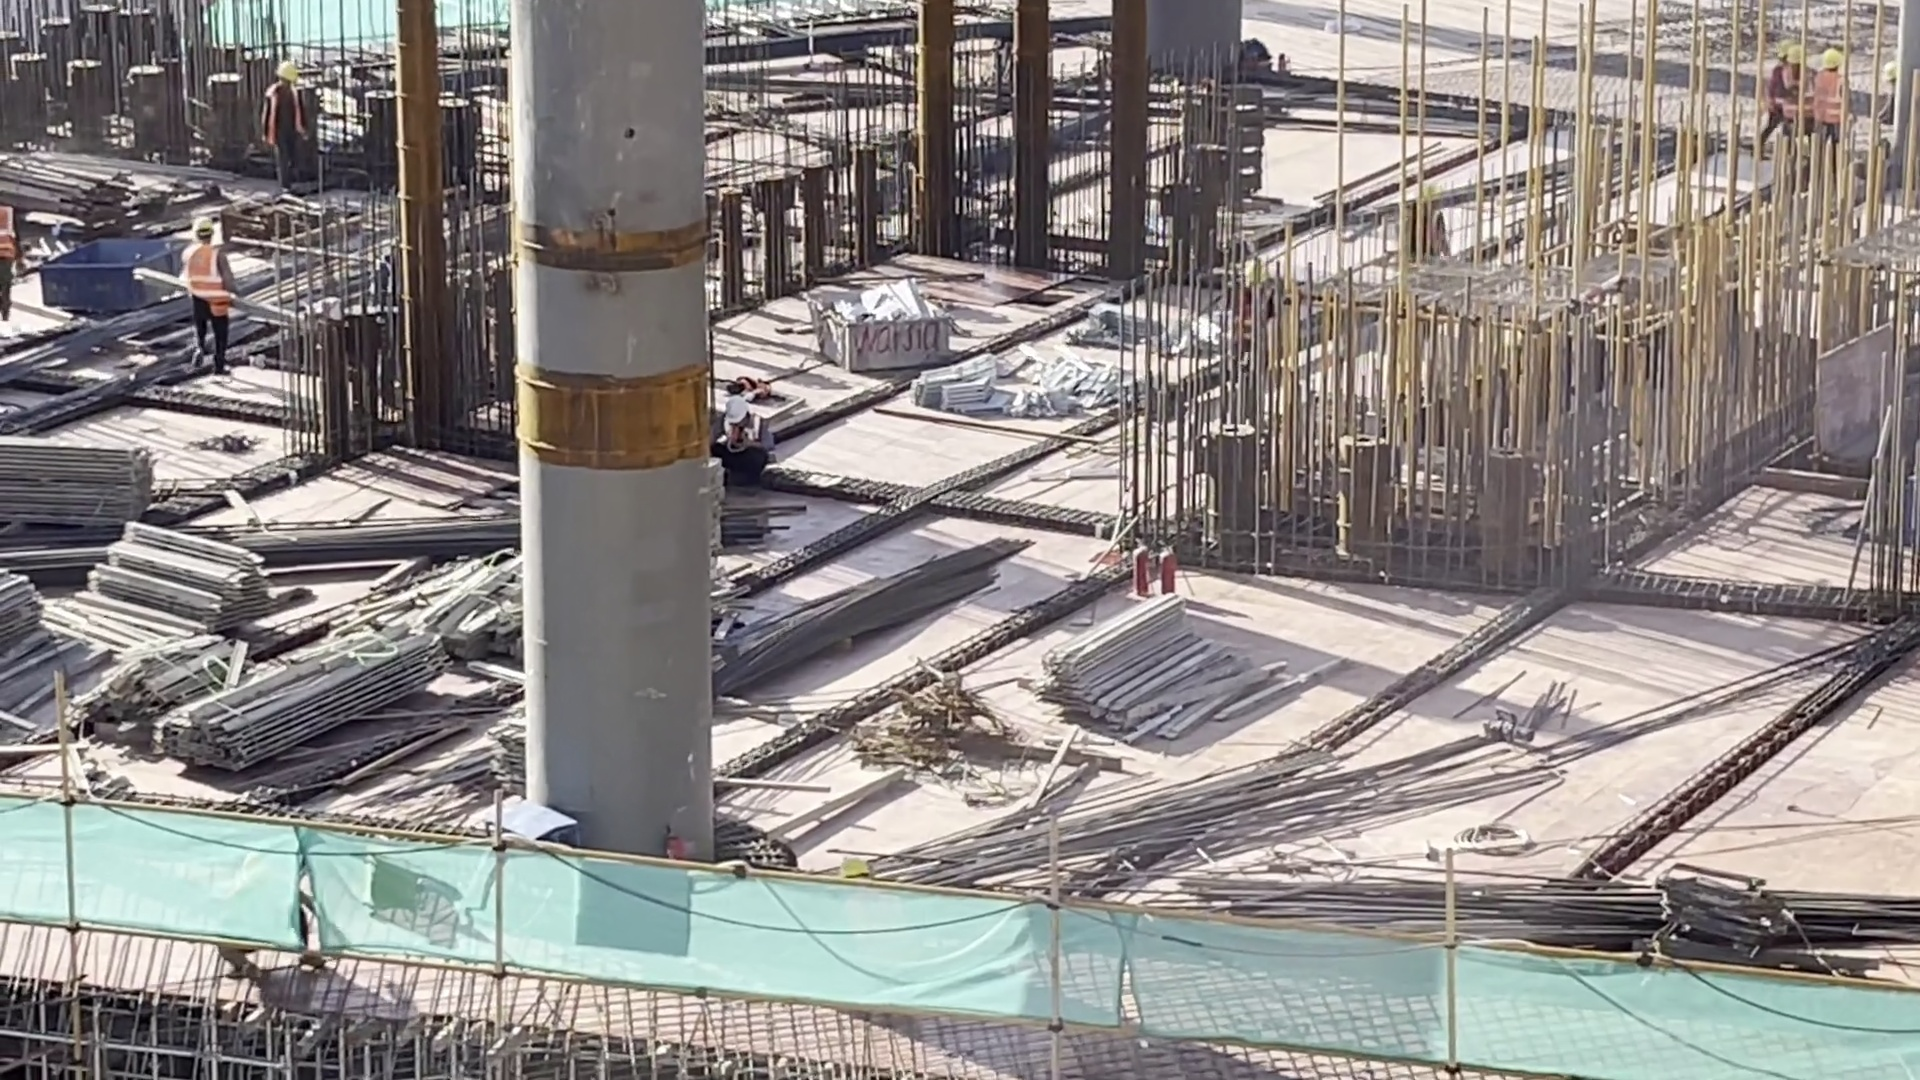helmet: (271, 37, 308, 83), (718, 391, 758, 430), (196, 217, 217, 246), (1822, 52, 1845, 68)
person: (1777, 19, 1858, 154), (259, 45, 318, 202), (718, 375, 773, 498), (181, 208, 225, 337)
vest: (177, 238, 228, 315), (264, 82, 312, 138), (1815, 67, 1847, 122)
